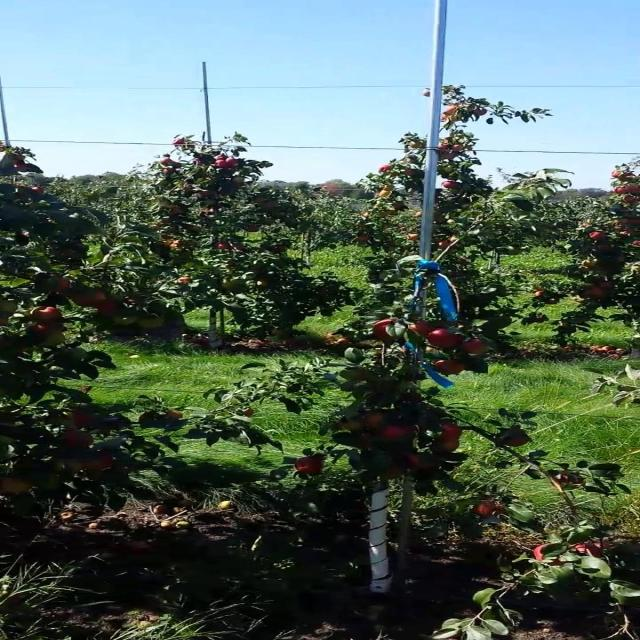apple: (532, 544, 567, 568), (426, 328, 464, 349), (70, 292, 107, 308), (84, 452, 114, 471), (6, 476, 34, 496), (433, 360, 468, 376), (298, 456, 327, 475), (42, 276, 71, 293), (404, 456, 439, 470), (461, 340, 491, 356), (63, 432, 92, 448), (376, 320, 395, 343), (476, 504, 505, 519), (35, 308, 64, 322), (70, 412, 96, 427), (575, 544, 604, 557), (362, 412, 384, 428), (440, 424, 462, 440), (383, 428, 412, 440), (504, 436, 533, 448), (35, 324, 64, 336), (554, 476, 583, 488), (56, 460, 85, 472), (42, 336, 68, 348), (42, 476, 64, 490), (412, 324, 436, 336), (49, 280, 71, 293), (113, 316, 139, 327), (141, 316, 164, 328), (340, 420, 363, 432), (440, 440, 462, 452), (63, 460, 85, 472), (99, 300, 117, 314), (383, 468, 405, 479), (348, 372, 370, 383), (170, 412, 185, 420)
